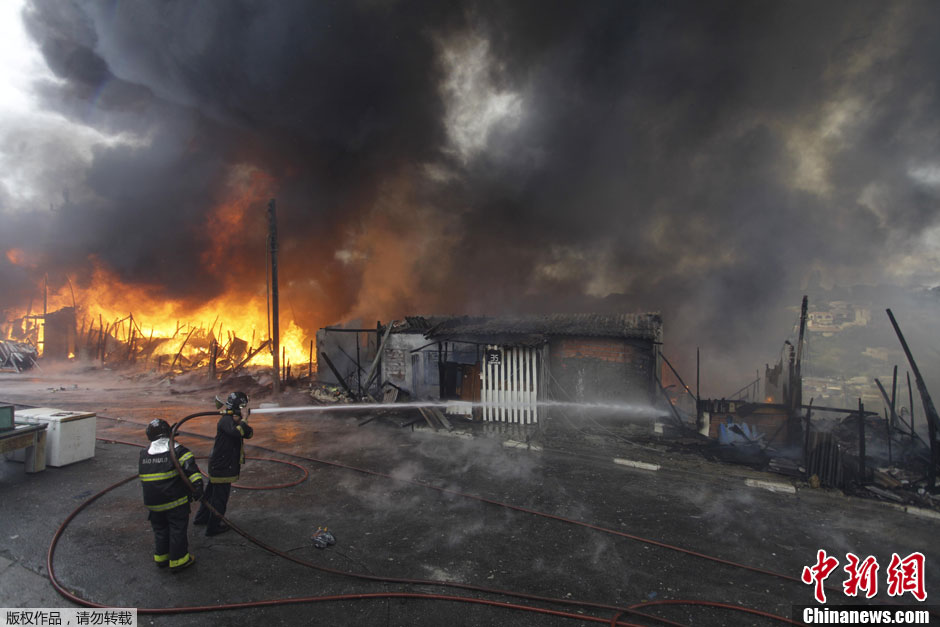fire: (1, 150, 353, 380)
